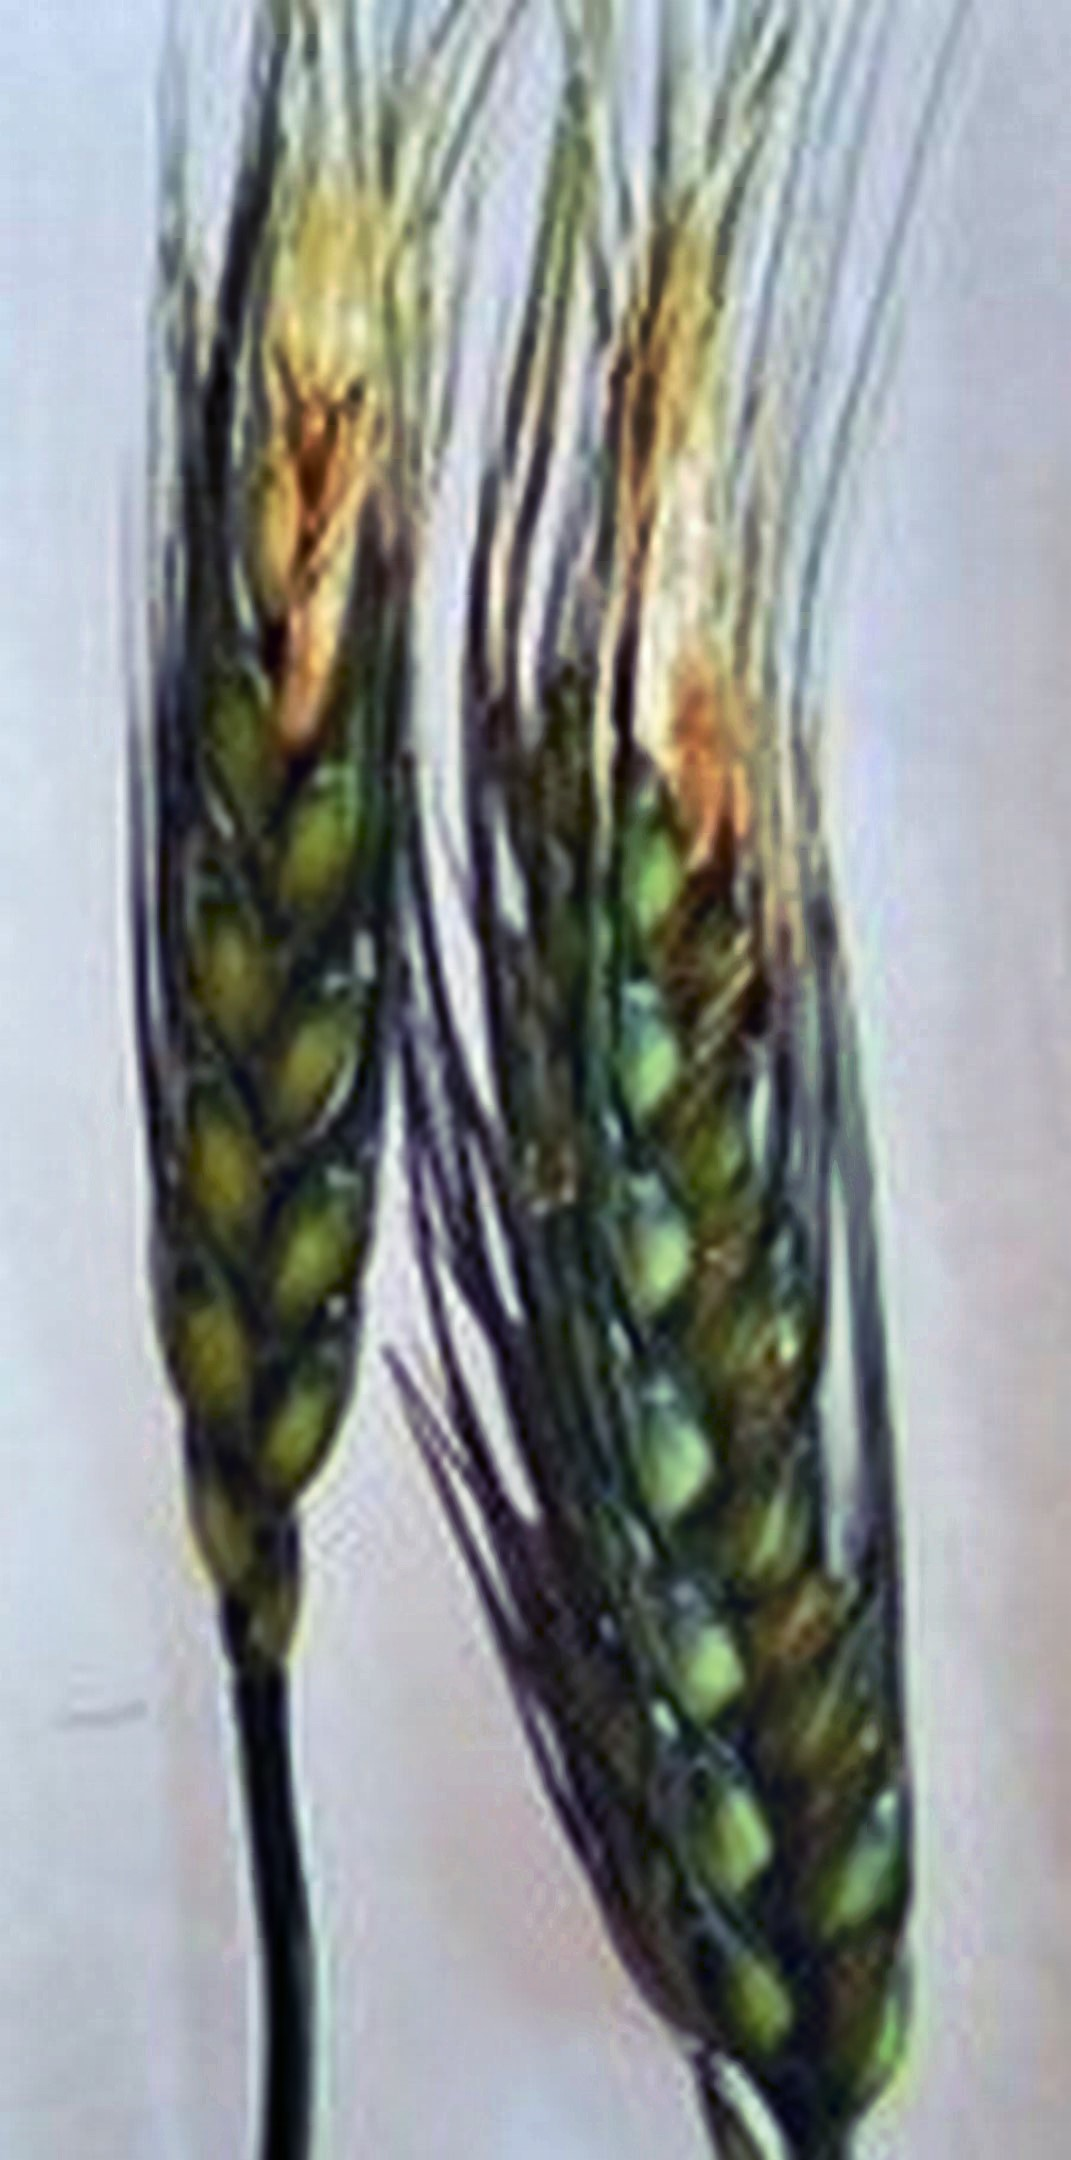Wheat scab: (150, 201, 857, 1412)
